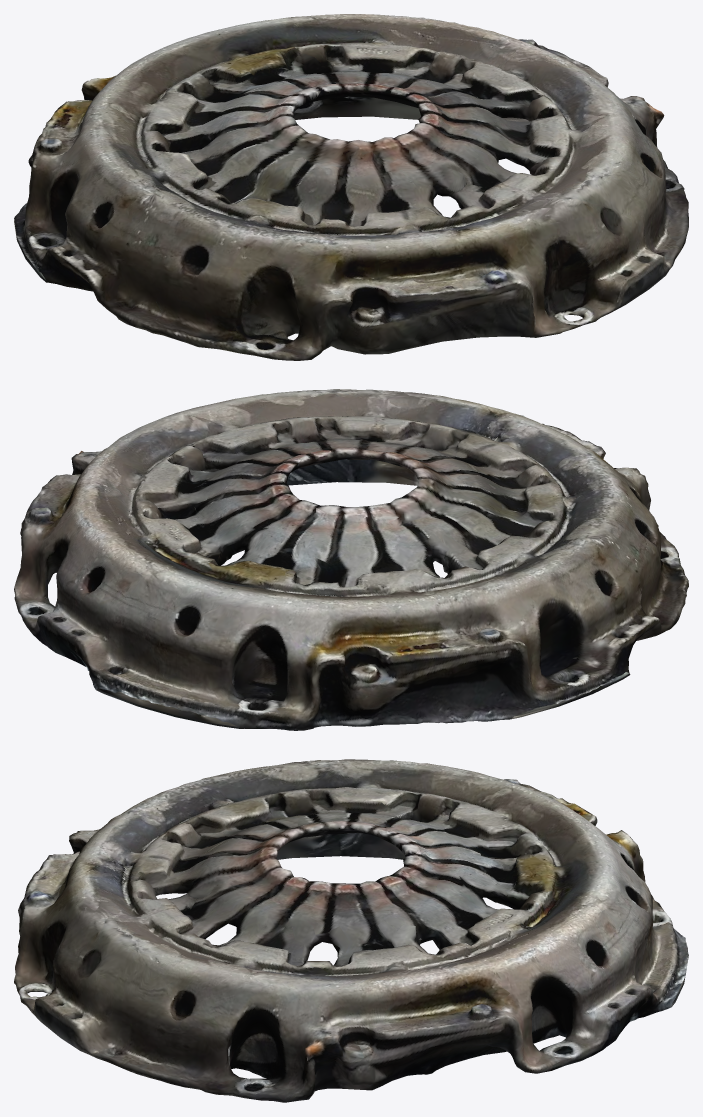
The model's file is clutch-bake.glb.
The picture shows the model from 3 angles, top to bottom: view 1: azimuth 30°, elevation 25°; view 2: azimuth 150°, elevation 25°; view 3: azimuth 270°, elevation 25°; orthographic projection.
Visible parts, largest first — view 1: Mesh_0; view 2: Mesh_0; view 3: Mesh_0.
Part boxes in pixels (x1=…): Mesh_0: x1=14, y1=14, x2=688, y2=360; Mesh_0: x1=14, y1=389, x2=688, y2=730; Mesh_0: x1=14, y1=759, x2=688, y2=1102.
Size of the model in its own units: 0.7589 by 0.1385 by 0.7597.
1 material, 1 textured.
